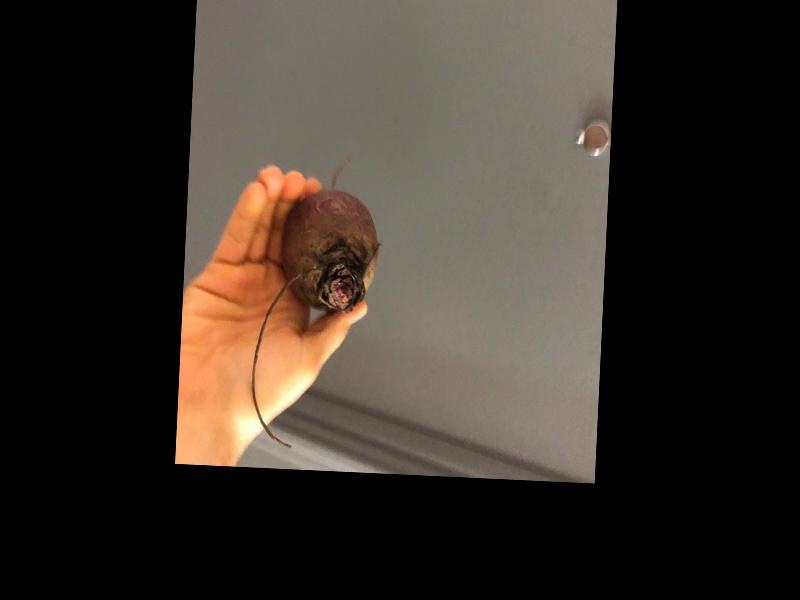Beet: (247, 153, 382, 449)
